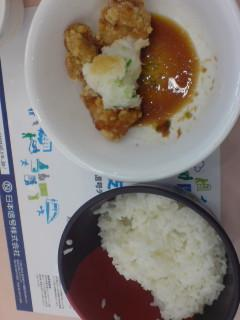plate: (25, 0, 239, 181), (58, 184, 239, 319)
rice: (95, 194, 226, 319)
